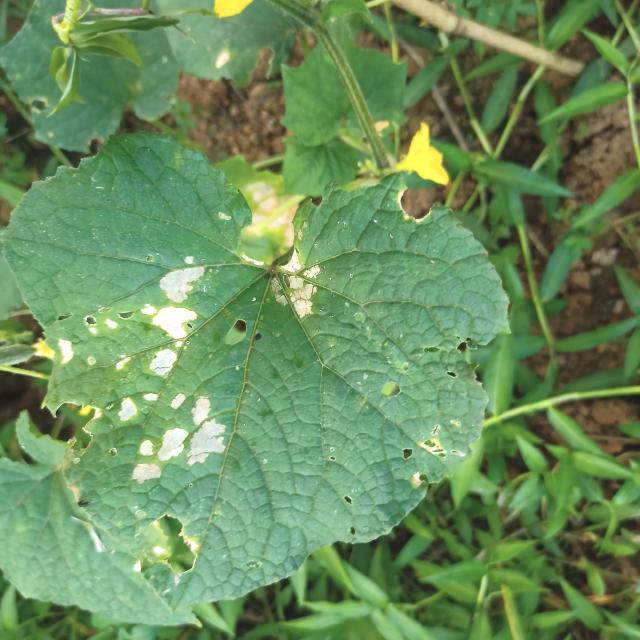disease_cucumber: (44, 250, 210, 385), (101, 386, 234, 495), (262, 231, 348, 326)
